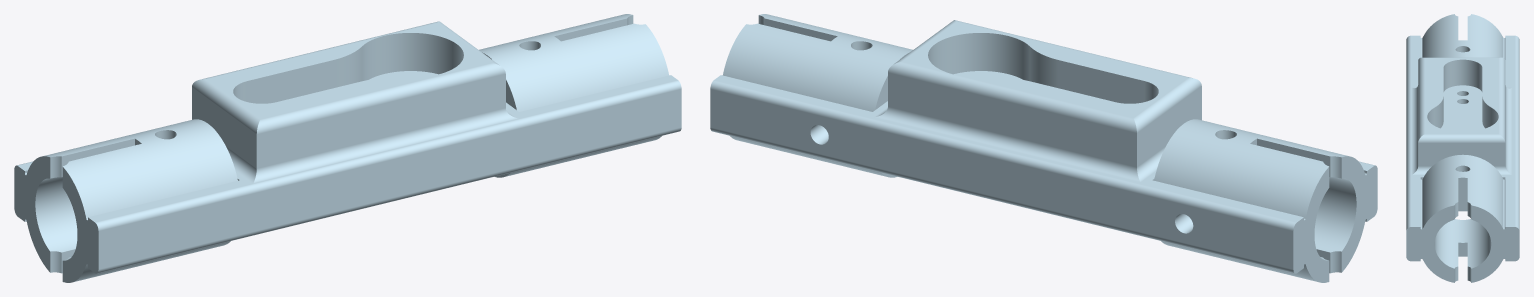
The model's file is DoubleEnded_EatingServo - Part 1.gltf.
3 views of the same model, side by side, from view 1: azimuth 30°, elevation 25°; view 2: azimuth 150°, elevation 25°; view 3: azimuth 270°, elevation 25° (orthographic). The views are drawn at different scales.
Visible parts, largest first — view 1: Part 1; view 2: Part 1; view 3: Part 1.
Boxes of the visible parts, x1,y1,x2,y2 form: Part 1: [14, 14, 681, 282]; Part 1: [710, 14, 1377, 282]; Part 1: [1406, 14, 1519, 282].
Bounding box in the file's own units: 0.096 × 0.0215 × 0.024.
